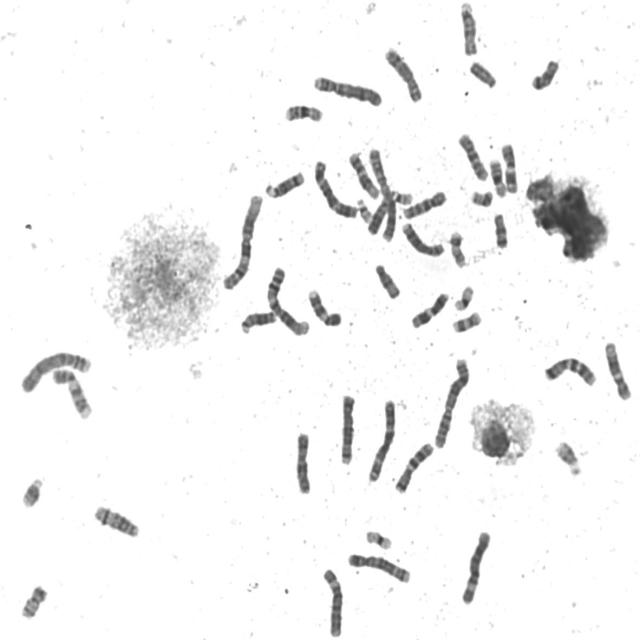A1: (219, 191, 265, 291), (264, 263, 311, 337)
A2: (431, 354, 471, 450), (365, 146, 397, 242)
A3: (311, 156, 359, 220), (365, 396, 397, 484)
B4: (18, 348, 93, 394), (311, 72, 384, 109)
B5: (344, 550, 412, 585), (337, 390, 357, 466)
C10: (455, 130, 490, 183), (400, 187, 448, 221)
C11: (409, 289, 450, 330), (499, 140, 519, 195)
C12: (602, 338, 634, 402), (346, 149, 380, 201)
C6: (458, 527, 493, 606), (319, 565, 345, 639)
C7: (392, 440, 435, 495), (541, 353, 598, 388)
C8: (382, 44, 424, 104), (399, 220, 446, 258)
C9: (49, 365, 93, 420), (305, 286, 342, 328)
D13: (382, 186, 401, 249), (238, 308, 277, 336)
D14: (91, 502, 141, 540), (263, 168, 306, 200)
D15: (457, 0, 479, 57), (372, 260, 402, 301)
E16: (282, 101, 324, 124), (487, 156, 508, 200)
E17: (449, 308, 483, 335), (447, 228, 468, 270)
E18: (528, 56, 560, 92), (490, 210, 510, 250)
F19: (451, 282, 475, 312), (363, 528, 393, 552)
F20: (18, 581, 49, 620), (468, 187, 494, 208)
G21: (552, 437, 584, 478), (18, 472, 45, 510)
G22: (354, 195, 374, 225), (388, 188, 413, 207)
X: (292, 428, 313, 496)
Y: (467, 59, 498, 90)
